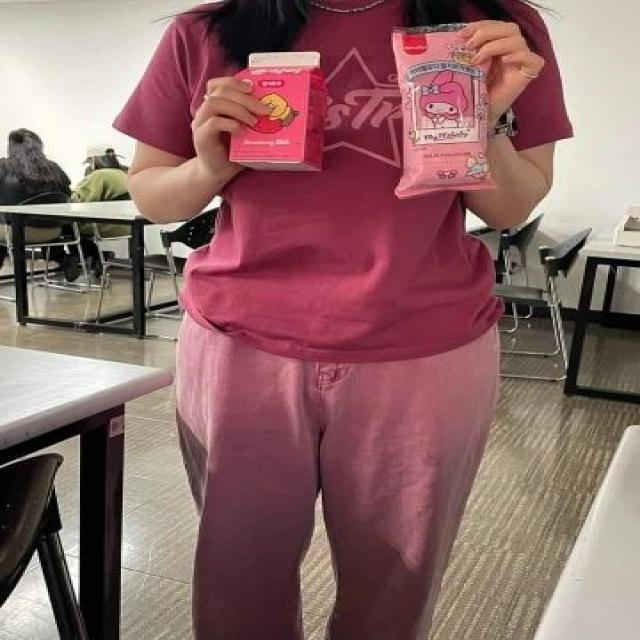denimpants: (168, 300, 499, 640)
shortsleeve: (110, 0, 576, 362)
